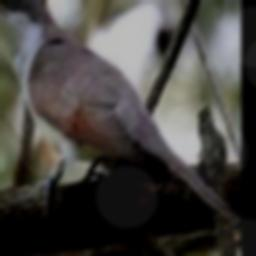Cuckoo: (0, 0, 240, 225)
